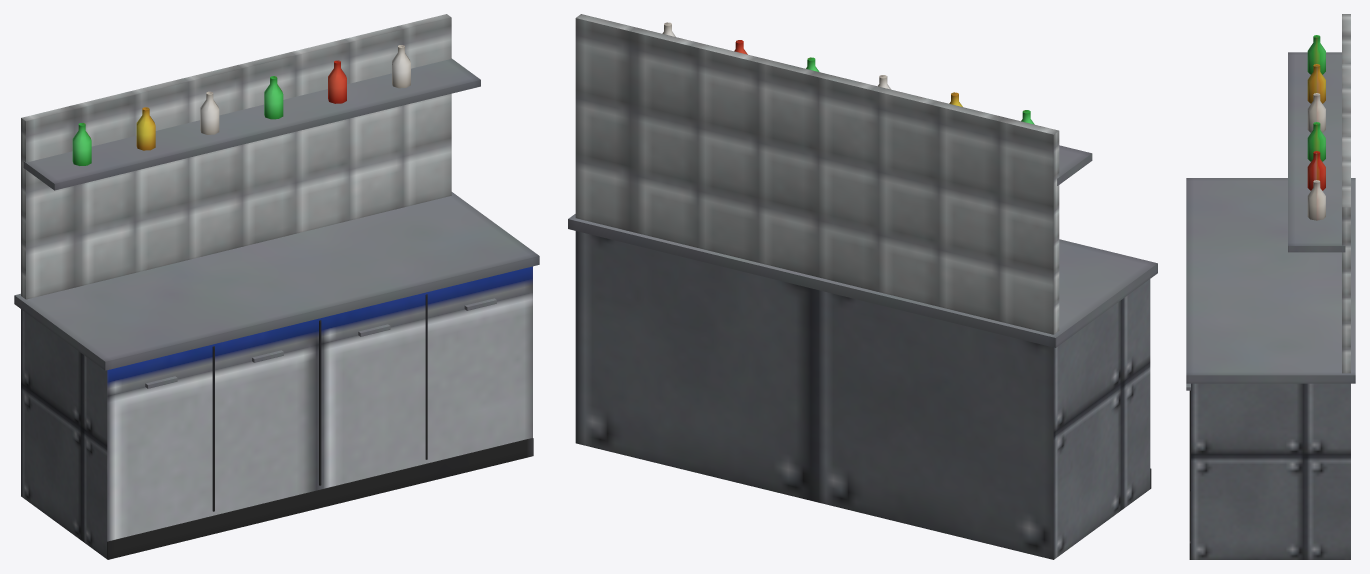
File: lab_bench.obj
3 views of the same model, side by side, from view 1: azimuth 30°, elevation 25°; view 2: azimuth 150°, elevation 25°; view 3: azimuth 270°, elevation 25° (orthographic). The views are drawn at different scales.
Visible parts, largest first — view 1: lab_bench; view 2: lab_bench; view 3: lab_bench.
Part boxes in pixels (x1,y1,x2,y2): lab_bench: [14, 14, 539, 559]; lab_bench: [568, 14, 1157, 559]; lab_bench: [1186, 14, 1355, 559].
Size of the model in its own units: 2.04 by 1.7 by 0.74.
Materials: 1 (1 with a texture image).
